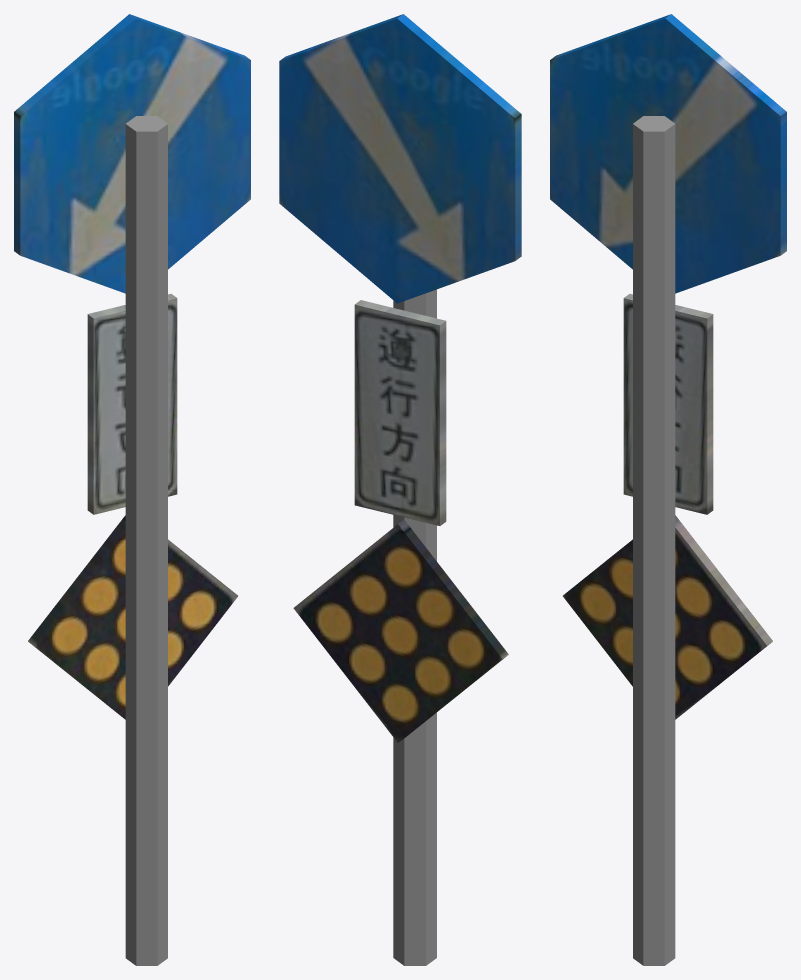
File: 告示牌.fbx
3 renders of one model, left to right at view 1: azimuth 30°, elevation 25°; view 2: azimuth 150°, elevation 25°; view 3: azimuth 330°, elevation 25°, orthographic. The views are drawn at different scales.
Parts seen in each view (by area): view 1: 3_告示牌; view 2: 3_告示牌; view 3: 3_告示牌.
Boxes of the visible parts, x1,y1,x2,y2 form: 3_告示牌: (14,14,250,965); 3_告示牌: (279,14,521,965); 3_告示牌: (550,14,786,965).
Size of the model in its own units: 110 by 425 by 23.24.
2 materials, 1 textured.
